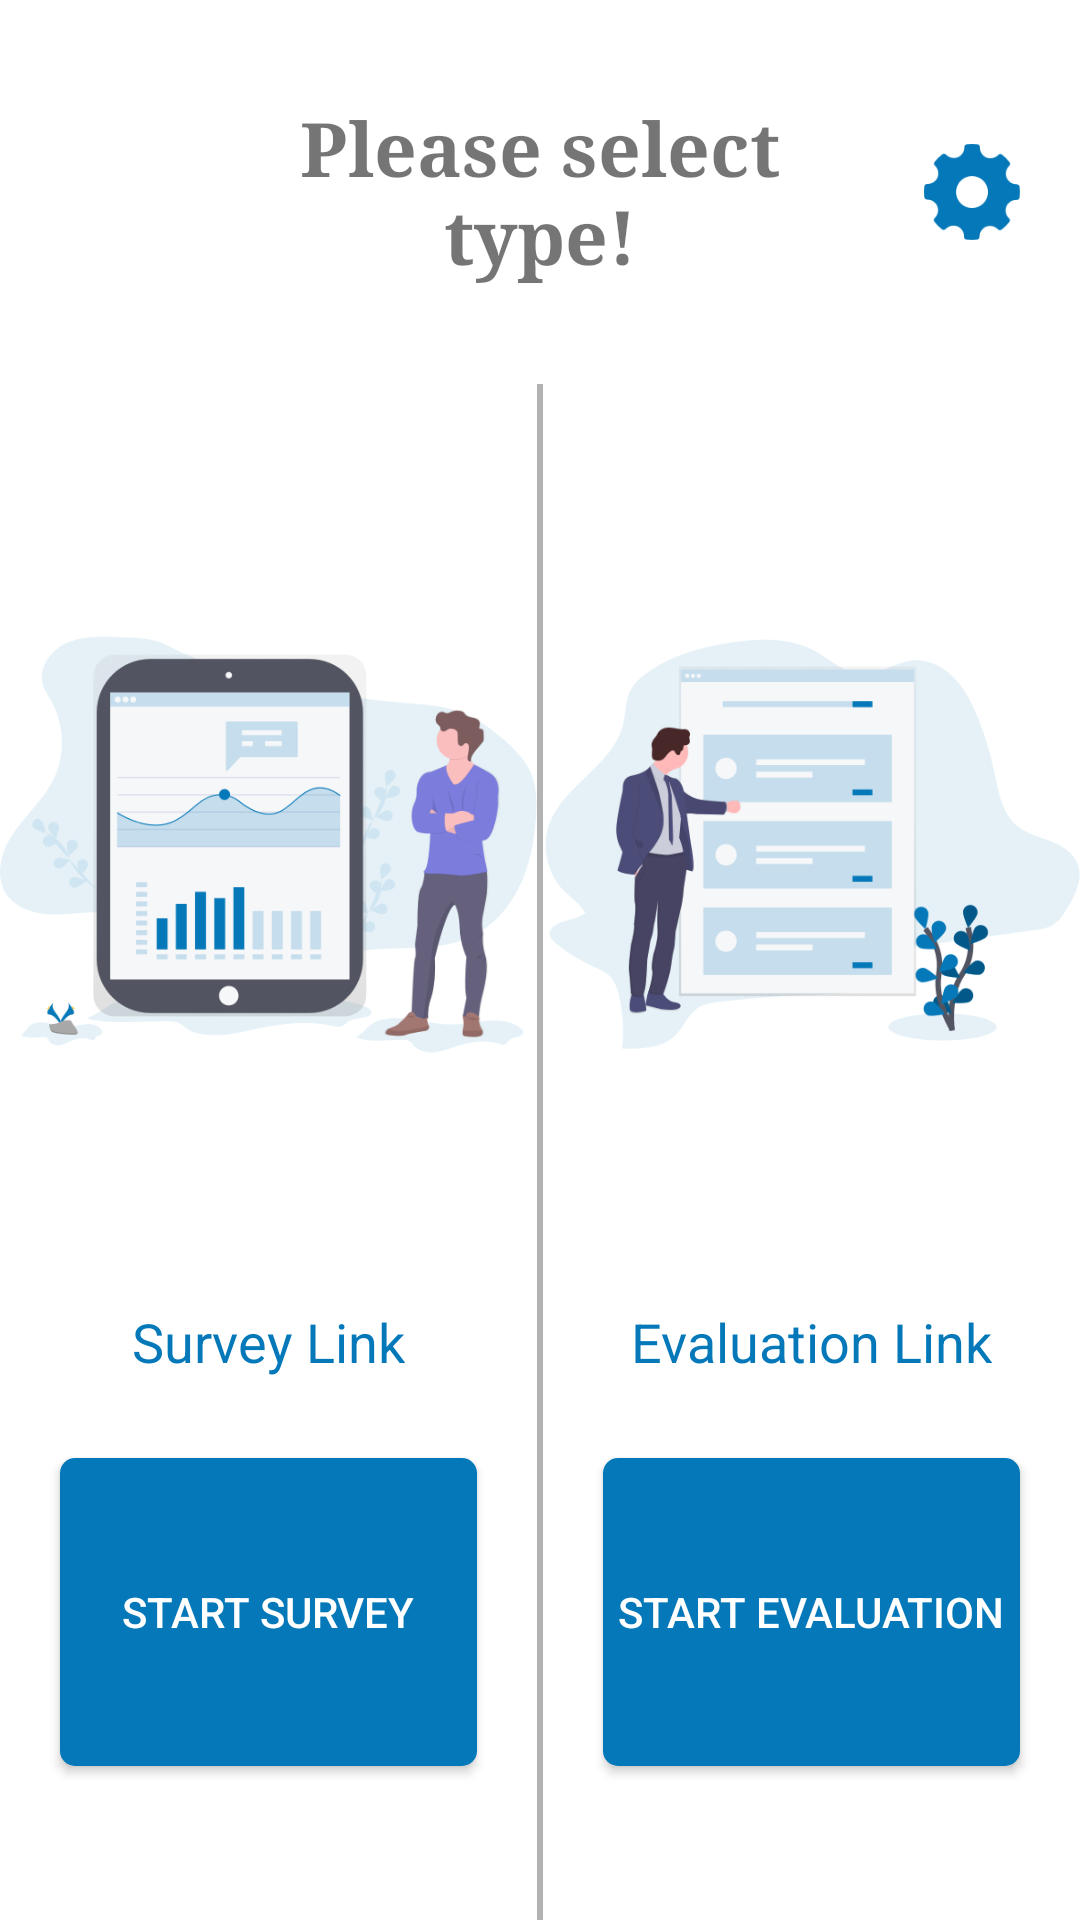

Locate icon controls on the screen. Image size 1080 x 1920, boxes as bbox=(x1, y1, x2, y2).
settings: bbox=(924, 144, 1020, 240)
